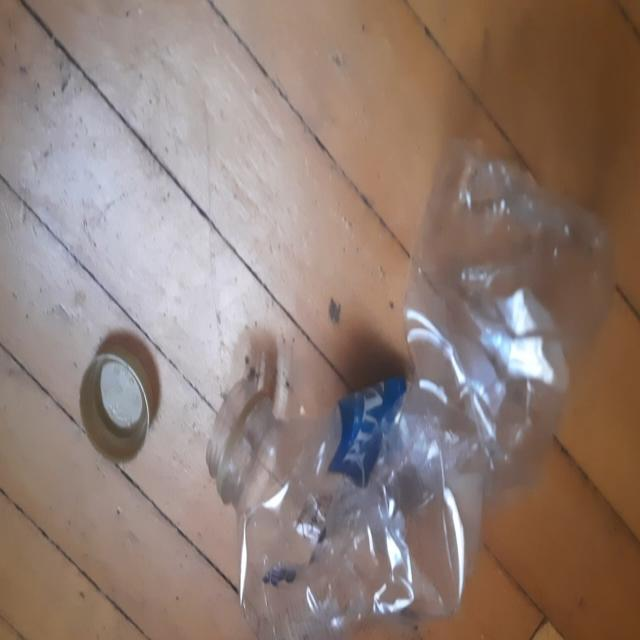Plastic: (208, 135, 616, 637)
